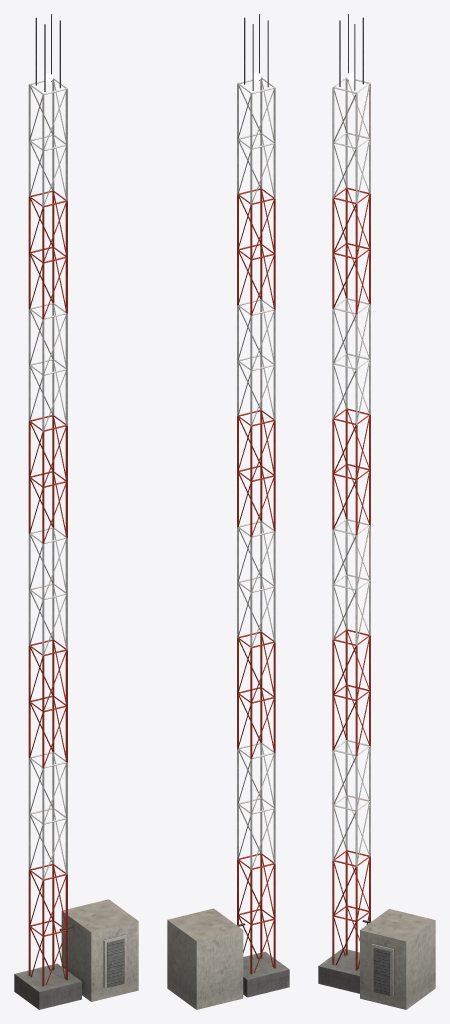
The model's file is radio_mast.glb.
The picture shows the model from 3 angles, left to right: view 1: azimuth 30°, elevation 25°; view 2: azimuth 210°, elevation 25°; view 3: azimuth 330°, elevation 25°; orthographic projection.
Visible parts, largest first — view 1: radio_mast; view 2: radio_mast; view 3: radio_mast.
Part boxes in pixels (x1,y1,x2,y2): radio_mast: (14,14,138,1009); radio_mast: (167,14,289,1009); radio_mast: (318,14,435,1009).
Size of the model in its own units: 4.4 by 43.5 by 2.48.
Materials: 2 (1 with a texture image).
